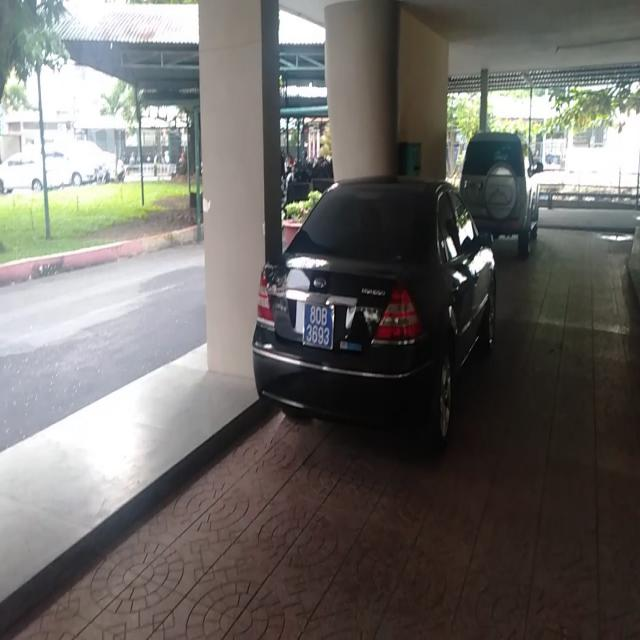bien_xanh: (301, 300, 334, 351)
